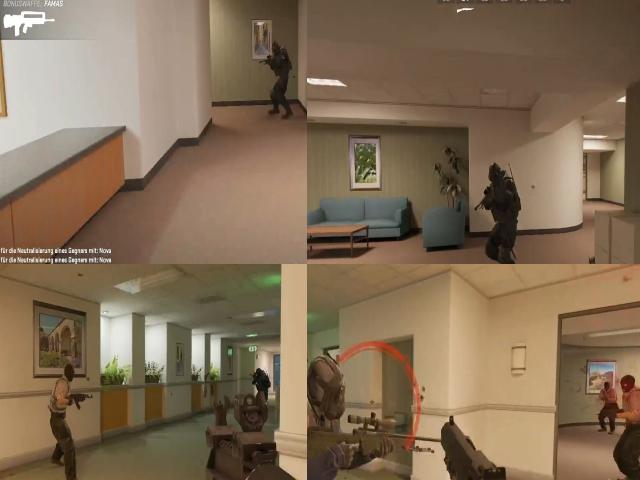CT: (307, 355, 346, 480), (484, 155, 520, 264), (270, 32, 289, 83), (251, 363, 271, 394), (254, 366, 264, 382)
CT-Head: (307, 350, 353, 416), (486, 161, 506, 187), (271, 39, 281, 59)
T: (619, 370, 640, 473), (47, 371, 77, 412), (596, 376, 618, 429)
T-Head: (619, 372, 640, 397), (60, 361, 78, 384), (601, 378, 613, 393)
